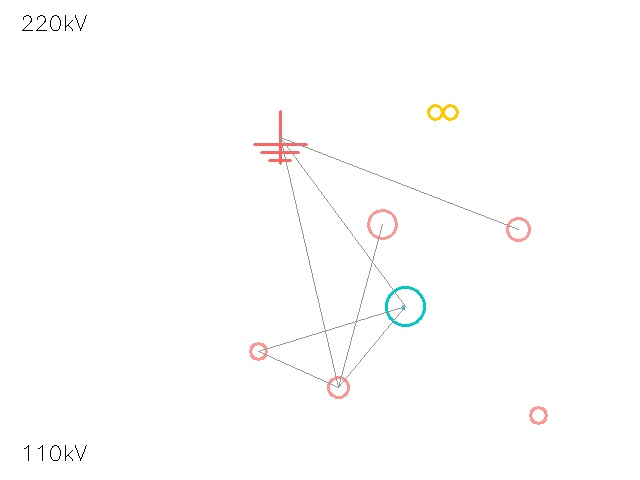current_transformer: (317, 366, 359, 408)
disconnect_switch: (241, 334, 275, 368)
fuse: (353, 195, 411, 253), (495, 206, 541, 252)
generator: (386, 287, 424, 325)
ground: (254, 111, 306, 163)
transformer_2w: (424, 93, 462, 131)
voltage_transformer: (522, 399, 554, 431)
